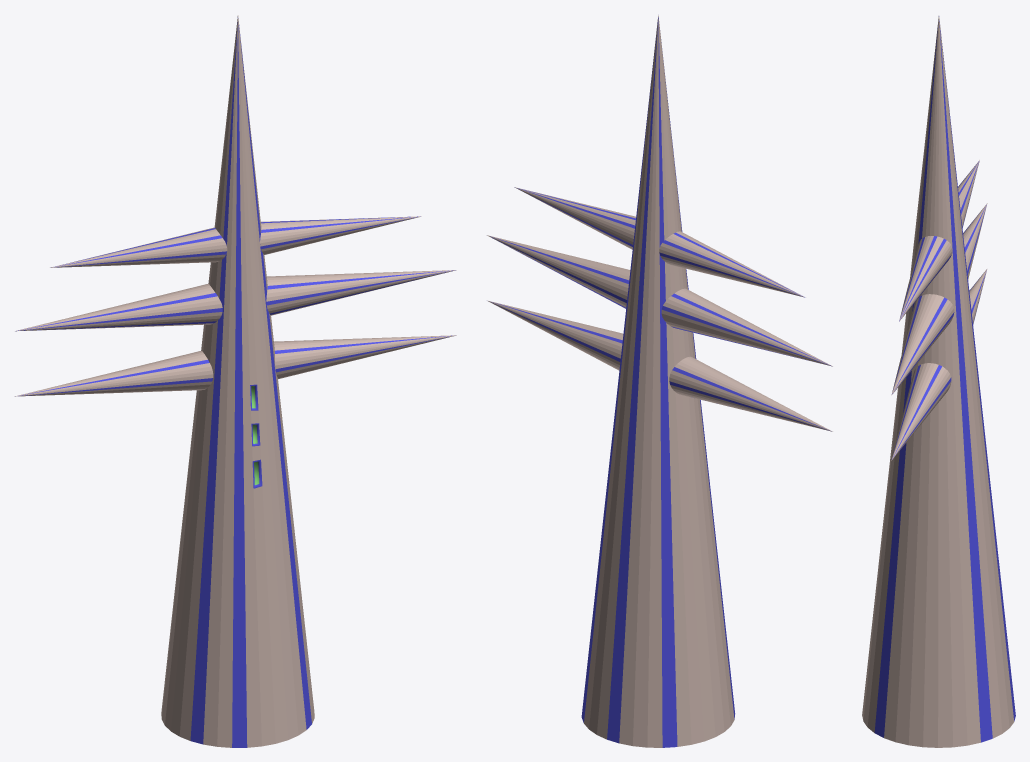
File: Accumulateur_S.fbx
3 renders of one model, left to right at view 1: azimuth 30°, elevation 25°; view 2: azimuth 150°, elevation 25°; view 3: azimuth 270°, elevation 25°, orthographic.
Parts seen in each view (by area): view 1: Cone; view 2: Cone; view 3: Cone.
Boxes of the visible parts, box(x1,y1,x2,y2) form: Cone: box(14, 15, 456, 747); Cone: box(487, 15, 832, 747); Cone: box(862, 16, 1015, 747).
Bounding box in the file's own units: 1079 × 1828 × 363.
